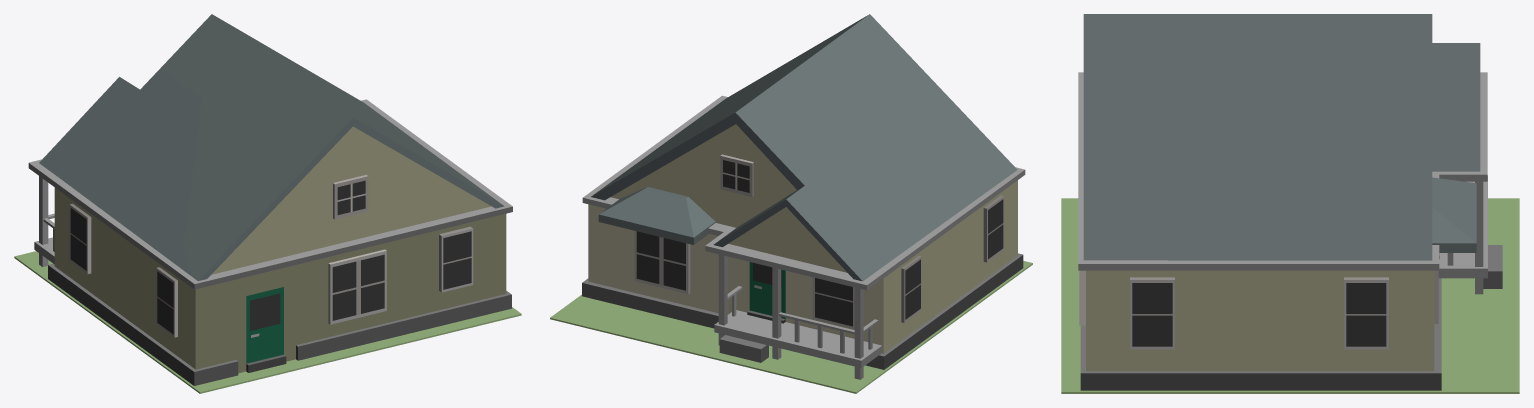
Rendered from house.glb.
3 views of the same model, side by side, from view 1: azimuth 30°, elevation 25°; view 2: azimuth 150°, elevation 25°; view 3: azimuth 270°, elevation 25° (orthographic). The views are drawn at different scales.
Visible parts, largest first — view 1: House, Ground; view 2: House, Ground; view 3: House, Ground.
Part boxes in pixels (x1,y1,x2,y2): House: (28,14,512,385); Ground: (14,251,521,393); House: (582,14,1025,379); Ground: (550,261,1032,393); House: (1078,14,1502,390); Ground: (1061,198,1519,393).
Size of the model in its own units: 32 by 21.89 by 32.
2 materials, 1 textured.
